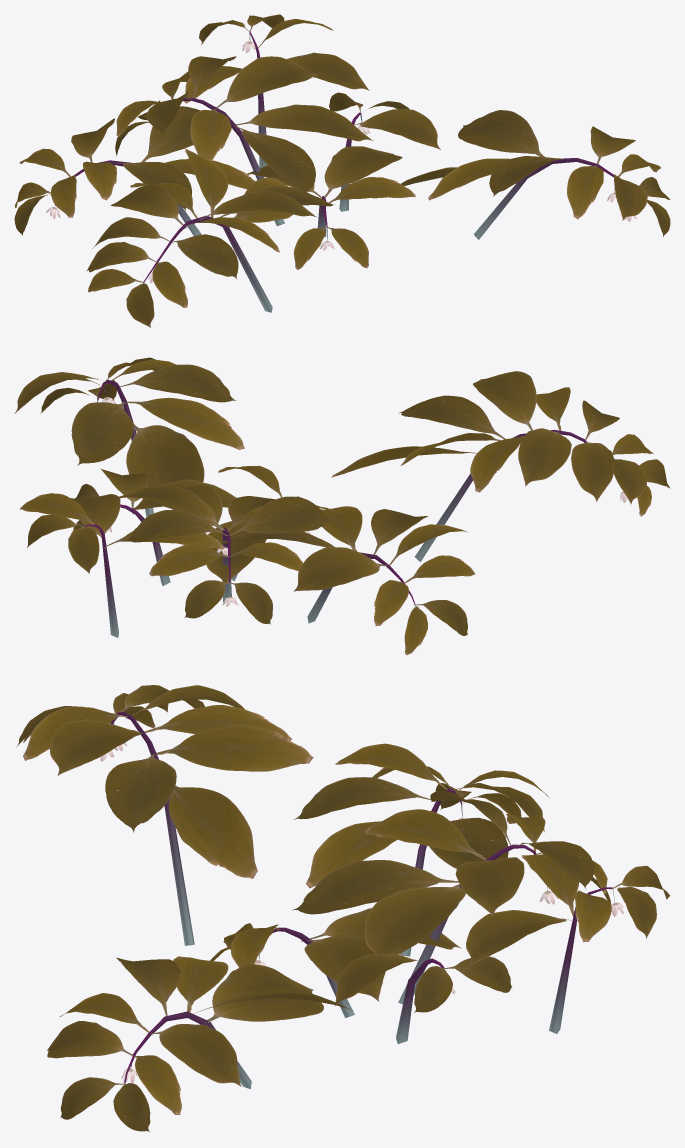
3 renders of one model, top to bottom at view 1: azimuth 30°, elevation 25°; view 2: azimuth 150°, elevation 25°; view 3: azimuth 270°, elevation 25°, orthographic. The views are drawn at different scales.
Parts seen in each view (by area): view 1: SM_DR_SolomonsSeal_03_LOD0; view 2: SM_DR_SolomonsSeal_03_LOD0; view 3: SM_DR_SolomonsSeal_03_LOD0.
Boxes of the visible parts, bbox=[...] form: SM_DR_SolomonsSeal_03_LOD0: bbox=[14, 14, 670, 327]; SM_DR_SolomonsSeal_03_LOD0: bbox=[14, 357, 670, 654]; SM_DR_SolomonsSeal_03_LOD0: bbox=[16, 685, 669, 1131].
Size of the model in its own units: 1.25 by 0.3145 by 0.9837.
1 material, 1 textured.
